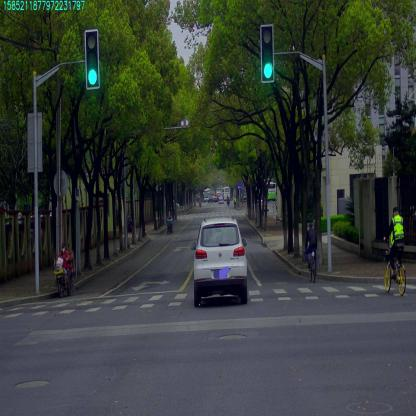traffic-light: (84, 30, 99, 87), (260, 25, 274, 81)
